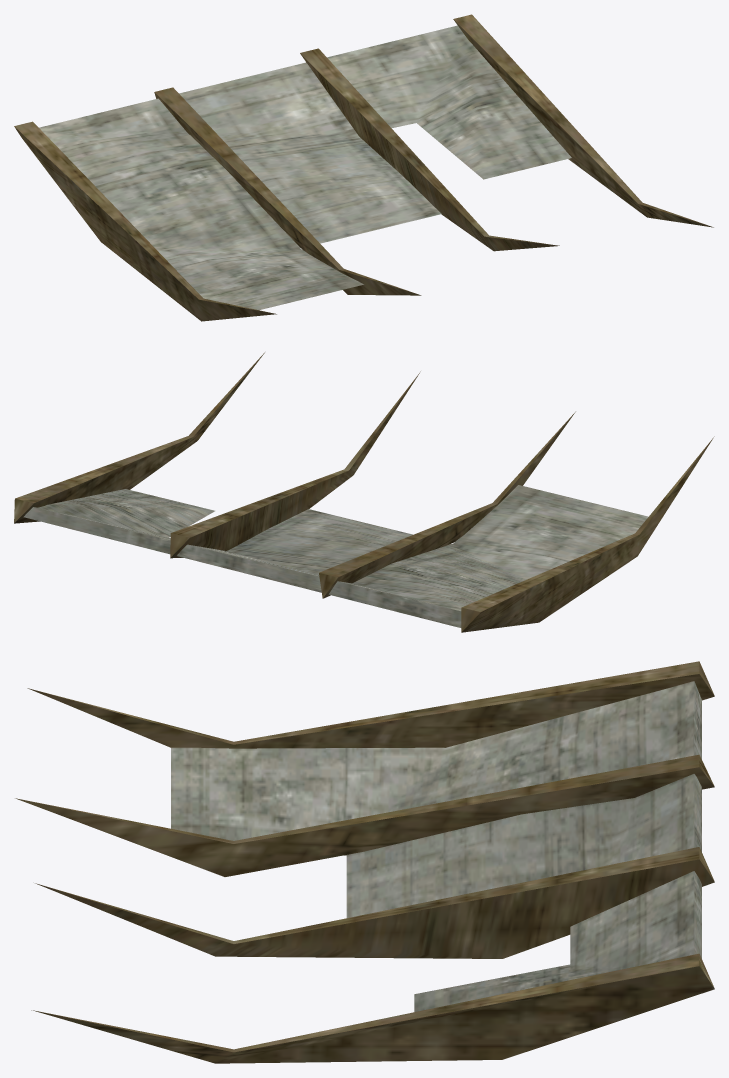
Rendered from thm_prp_junk_s7_l2.fbx.
3 views of the same model, one above another, from view 1: azimuth 30°, elevation 25°; view 2: azimuth 150°, elevation 25°; view 3: azimuth 270°, elevation 25° (orthographic). The views are drawn at different scales.
Visible parts, largest first — view 1: mesh_node; view 2: mesh_node; view 3: mesh_node.
Boxes of the visible parts, box(x1,y1,x2,y2) form: mesh_node: box(14, 14, 713, 321); mesh_node: box(14, 352, 714, 632); mesh_node: box(15, 661, 714, 1063).
Size of the model in its own units: 8.27 by 1.45 by 8.03.
